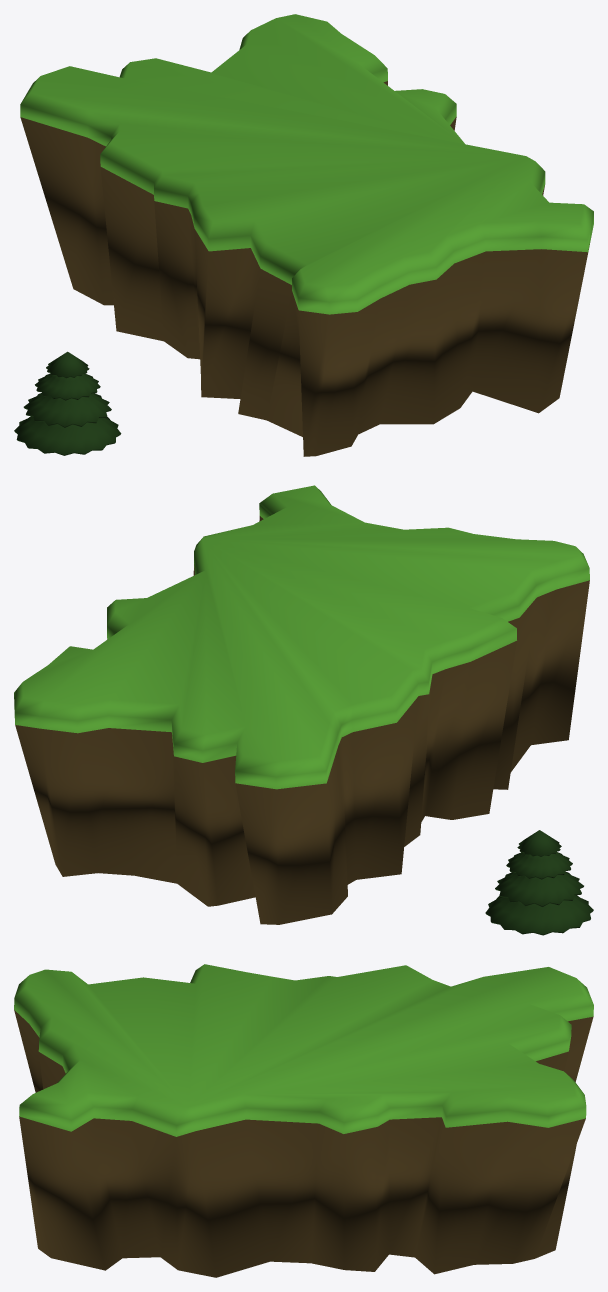
The model's file is TerrainAsetts.fbx.
The picture shows the model from 3 angles, top to bottom: view 1: azimuth 30°, elevation 25°; view 2: azimuth 150°, elevation 25°; view 3: azimuth 270°, elevation 25°; orthographic projection. The views are drawn at different scales.
Visible parts, largest first — view 1: Plane, Circle.003; view 2: Plane, Circle.003; view 3: Plane.
Boxes of the visible parts, x1,y1,x2,y2 form: Plane: (20,14,593,456); Circle.003: (14,351,121,455); Plane: (14,485,589,924); Circle.003: (485,830,593,935); Plane: (14,964,593,1277).
Size of the model in its own units: 3319 by 1726 by 3879.
